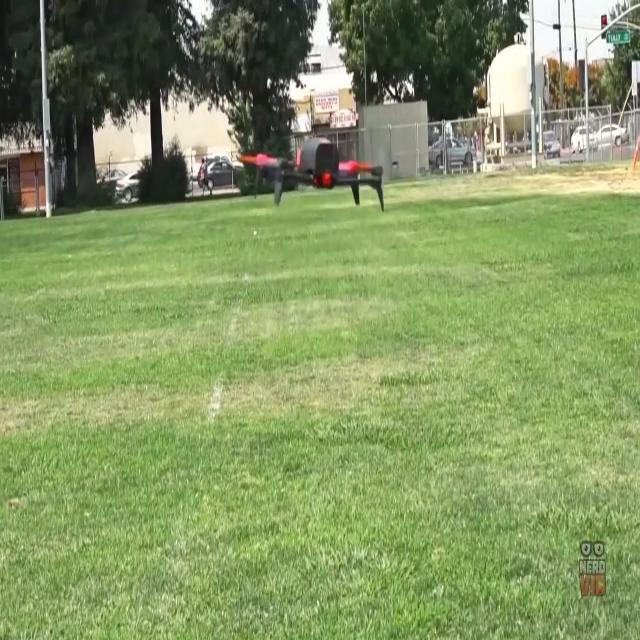UAV: (239, 137, 385, 213)
